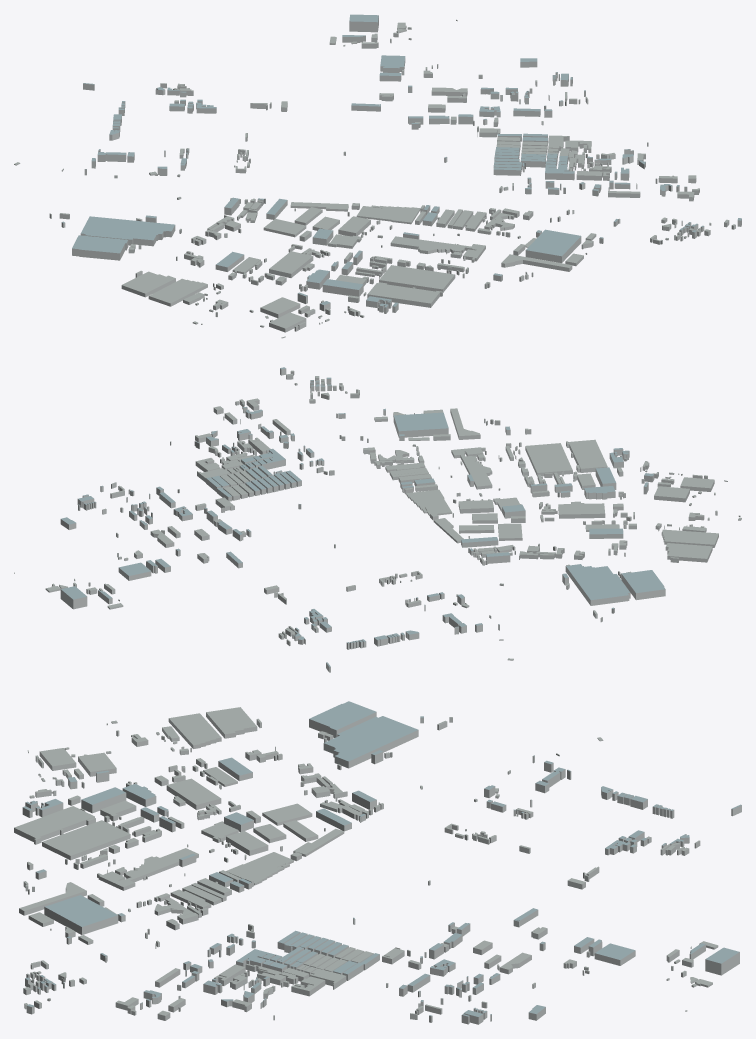
The picture shows the model from 3 angles, top to bottom: view 1: azimuth 30°, elevation 25°; view 2: azimuth 150°, elevation 25°; view 3: azimuth 270°, elevation 25°; orthographic projection. The views are drawn at different scales.
Visible parts, largest first — view 1: 上海全域建筑分块 · mapped building neighborhood; view 2: 上海全域建筑分块 · mapped building neighborhood; view 3: 上海全域建筑分块 · mapped building neighborhood.
Part boxes in pixels (<box>): 上海全域建筑分块 · mapped building neighborhood: <box>14,14,741,338</box>; 上海全域建筑分块 · mapped building neighborhood: <box>14,367,741,672</box>; 上海全域建筑分块 · mapped building neighborhood: <box>14,701,741,1024</box>.
Size of the model in its own units: 2180 by 38.29 by 2128.
